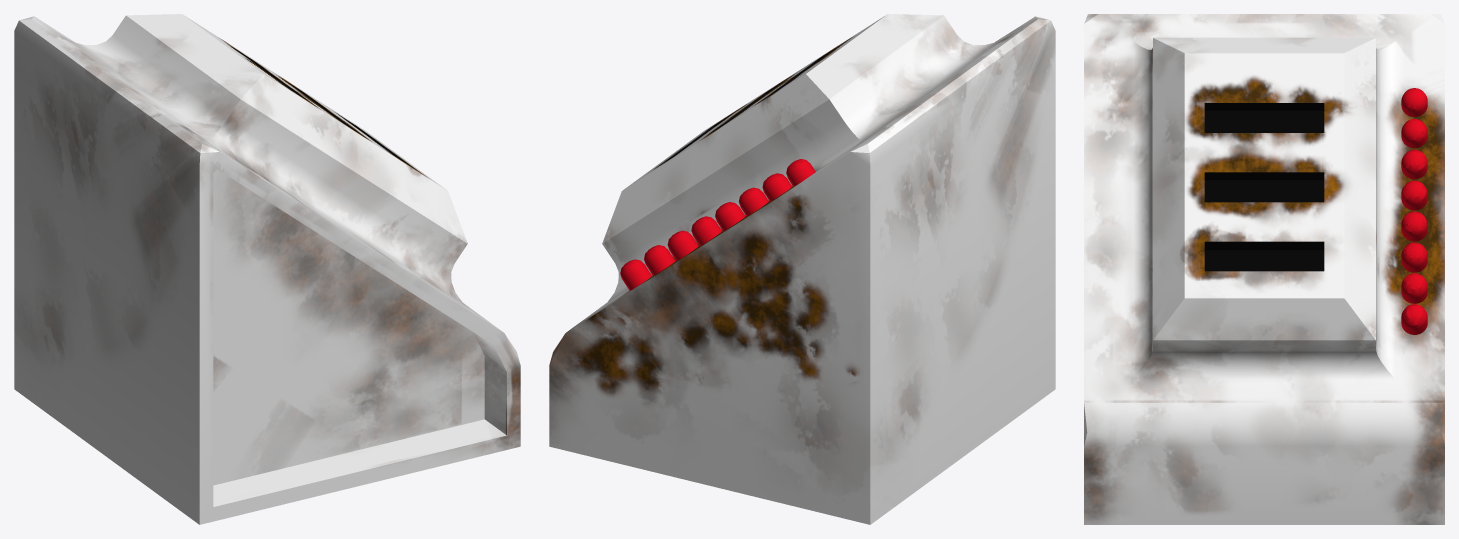
File: puzzle_control_panel.glb
3 views of the same model, side by side, from view 1: azimuth 30°, elevation 25°; view 2: azimuth 150°, elevation 25°; view 3: azimuth 270°, elevation 25° (orthographic). The views are drawn at different scales.
Parts seen in each view (by area): view 1: Cube; view 2: Cube; view 3: Cube.
Part boxes in pixels (<box>): Cube: <box>14,14,520,524</box>; Cube: <box>549,14,1055,524</box>; Cube: <box>1084,14,1444,524</box>.
Bounding box in the file's own units: 2 × 2.29 × 2.
3 materials, 1 textured.
